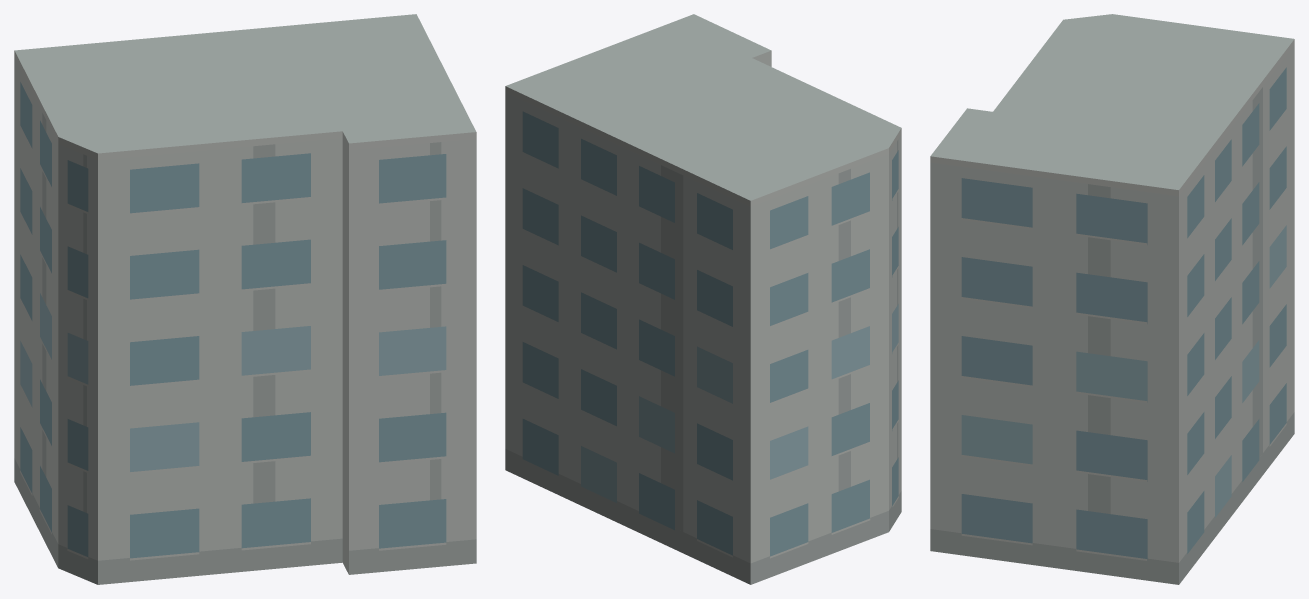
The model's file is residential-7c4e0bd1-9242-4acf-a7e1-bb2b48af70b5.glb.
3 views of the same model, side by side, from view 1: azimuth 30°, elevation 25°; view 2: azimuth 150°, elevation 25°; view 3: azimuth 270°, elevation 25° (orthographic). The views are drawn at different scales.
Visible parts, largest first — view 1: residential-7c4e0bd1-9242-4acf-a7e1-bb2b48af70b5.tmp; view 2: residential-7c4e0bd1-9242-4acf-a7e1-bb2b48af70b5.tmp; view 3: residential-7c4e0bd1-9242-4acf-a7e1-bb2b48af70b5.tmp.
Boxes of the visible parts, left/top/right/bottom form: residential-7c4e0bd1-9242-4acf-a7e1-bb2b48af70b5.tmp: left=14, top=14, right=476, bottom=584; residential-7c4e0bd1-9242-4acf-a7e1-bb2b48af70b5.tmp: left=505, top=14, right=901, bottom=584; residential-7c4e0bd1-9242-4acf-a7e1-bb2b48af70b5.tmp: left=930, top=14, right=1294, bottom=584.
Bounding box in the file's own units: 14.61 × 15.25 × 12.77.
